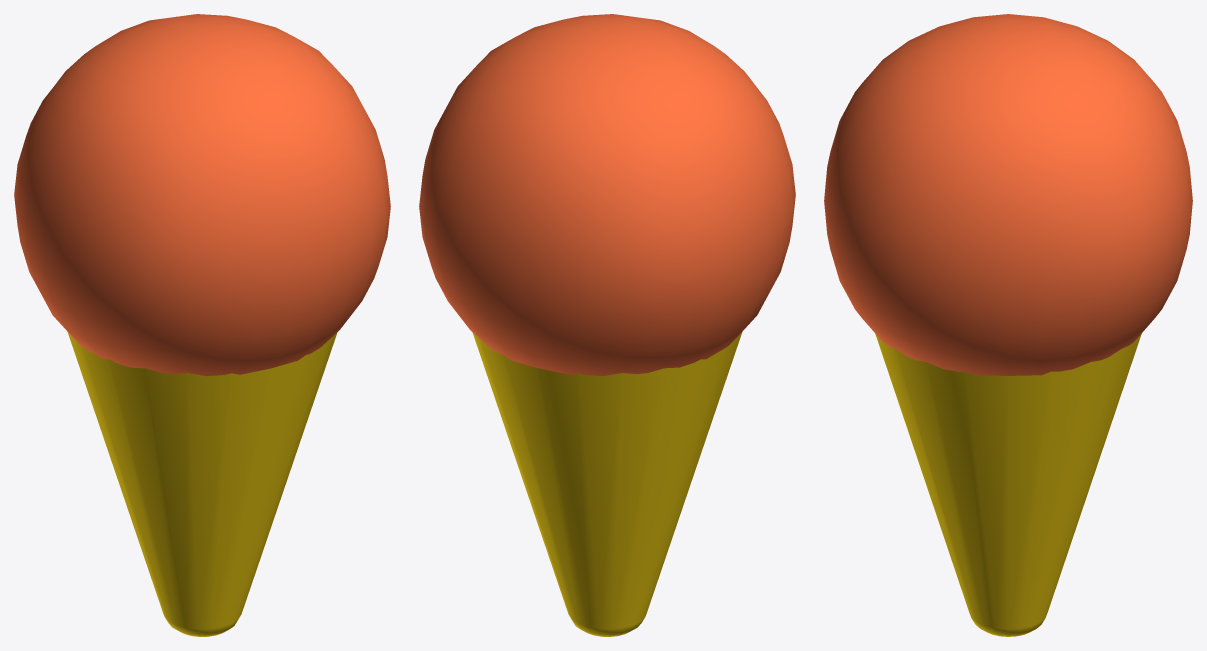
File: City_19_Ice_Cream_3.glb
3 views of the same model, side by side, from view 1: azimuth 30°, elevation 25°; view 2: azimuth 150°, elevation 25°; view 3: azimuth 270°, elevation 25° (orthographic).
Visible parts, largest first — view 1: City_19_Ice_Cream_3; view 2: City_19_Ice_Cream_3; view 3: City_19_Ice_Cream_3.
Part boxes in pixels (<box>): City_19_Ice_Cream_3: <box>14,14,390,636</box>; City_19_Ice_Cream_3: <box>419,14,795,636</box>; City_19_Ice_Cream_3: <box>824,14,1192,636</box>.
Bounding box in the file's own units: 0.1966 × 0.3493 × 0.1966.
1 material, 1 textured.
